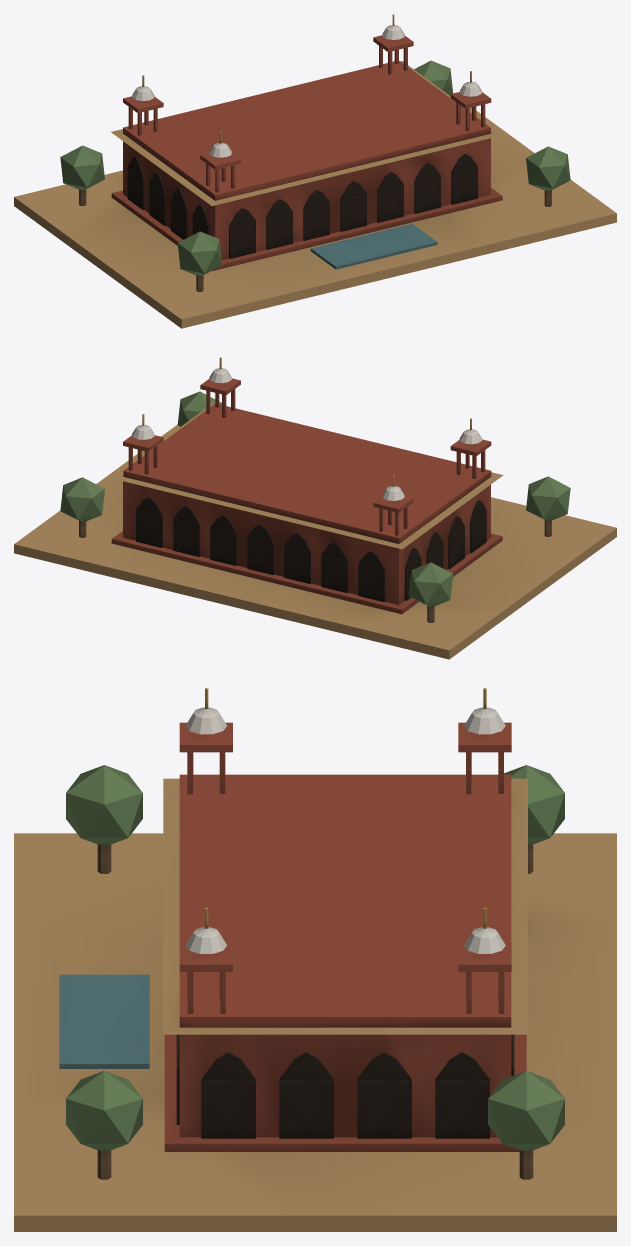
Rendered from residency.glb.
3 renders of one model, top to bottom at view 1: azimuth 30°, elevation 25°; view 2: azimuth 150°, elevation 25°; view 3: azimuth 270°, elevation 25°, orthographic. The views are drawn at different scales.
Parts seen in each view (by area): view 1: p1_pavilion, p0_terrace, p2_garden; view 2: p1_pavilion, p0_terrace, p2_garden; view 3: p1_pavilion, p0_terrace, p2_garden.
Part boxes in pixels (x1,y1,x2,y2): p1_pavilion: [111, 14, 502, 270]; p0_terrace: [14, 107, 616, 328]; p2_garden: [60, 60, 570, 291]; p1_pavilion: [111, 357, 503, 614]; p0_terrace: [14, 424, 616, 659]; p2_garden: [60, 391, 570, 622]; p1_pavilion: [59, 688, 527, 1151]; p0_terrace: [14, 833, 616, 1231]; p2_garden: [66, 765, 564, 1179].
Size of the model in its own units: 60 by 17.73 by 40.
